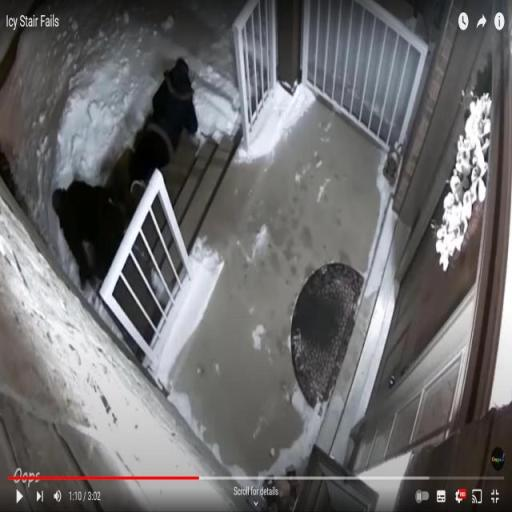Fall: (122, 50, 201, 197), (49, 177, 122, 295)
